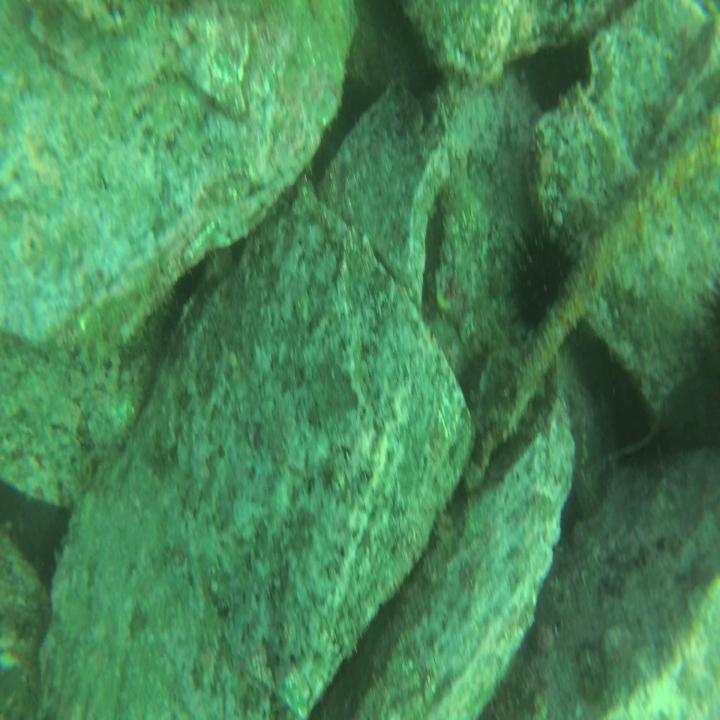echinus: (510, 222, 579, 330), (526, 42, 592, 115)
